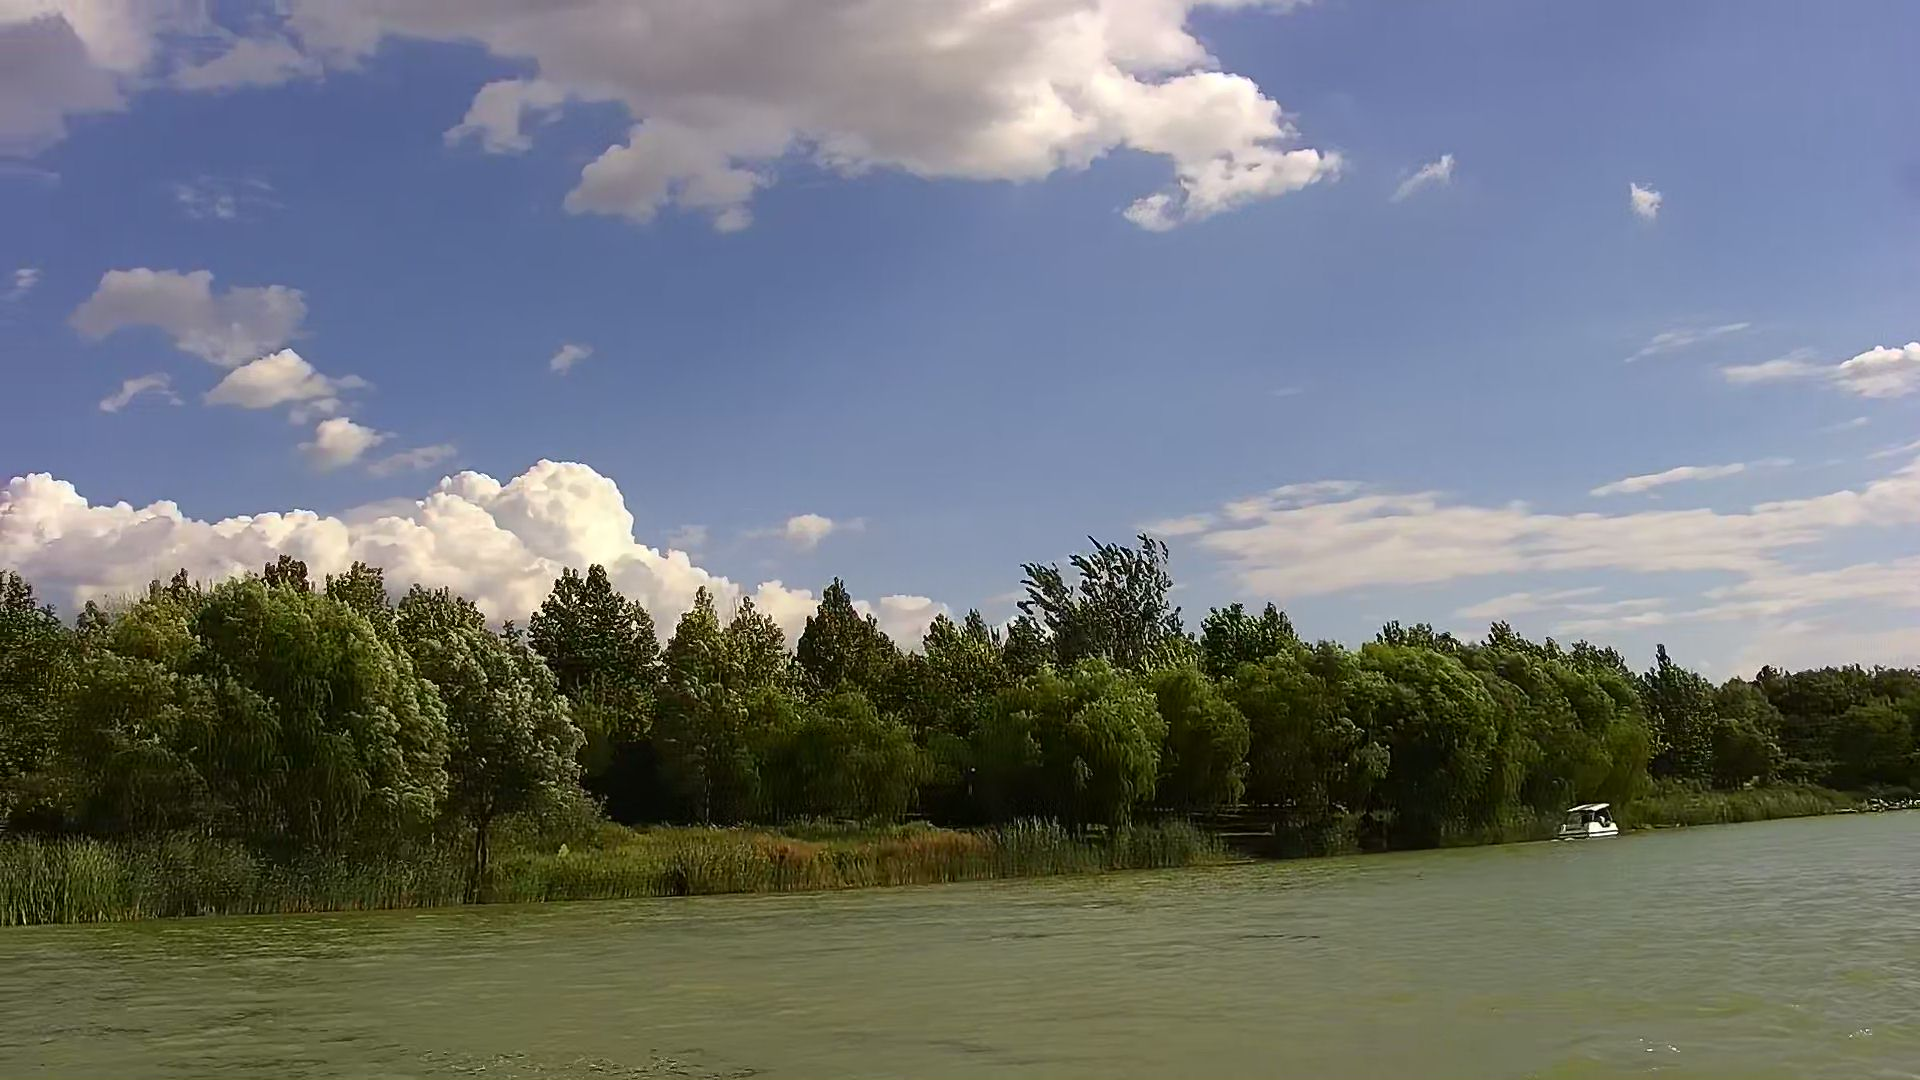boat: (1564, 800, 1619, 841)
